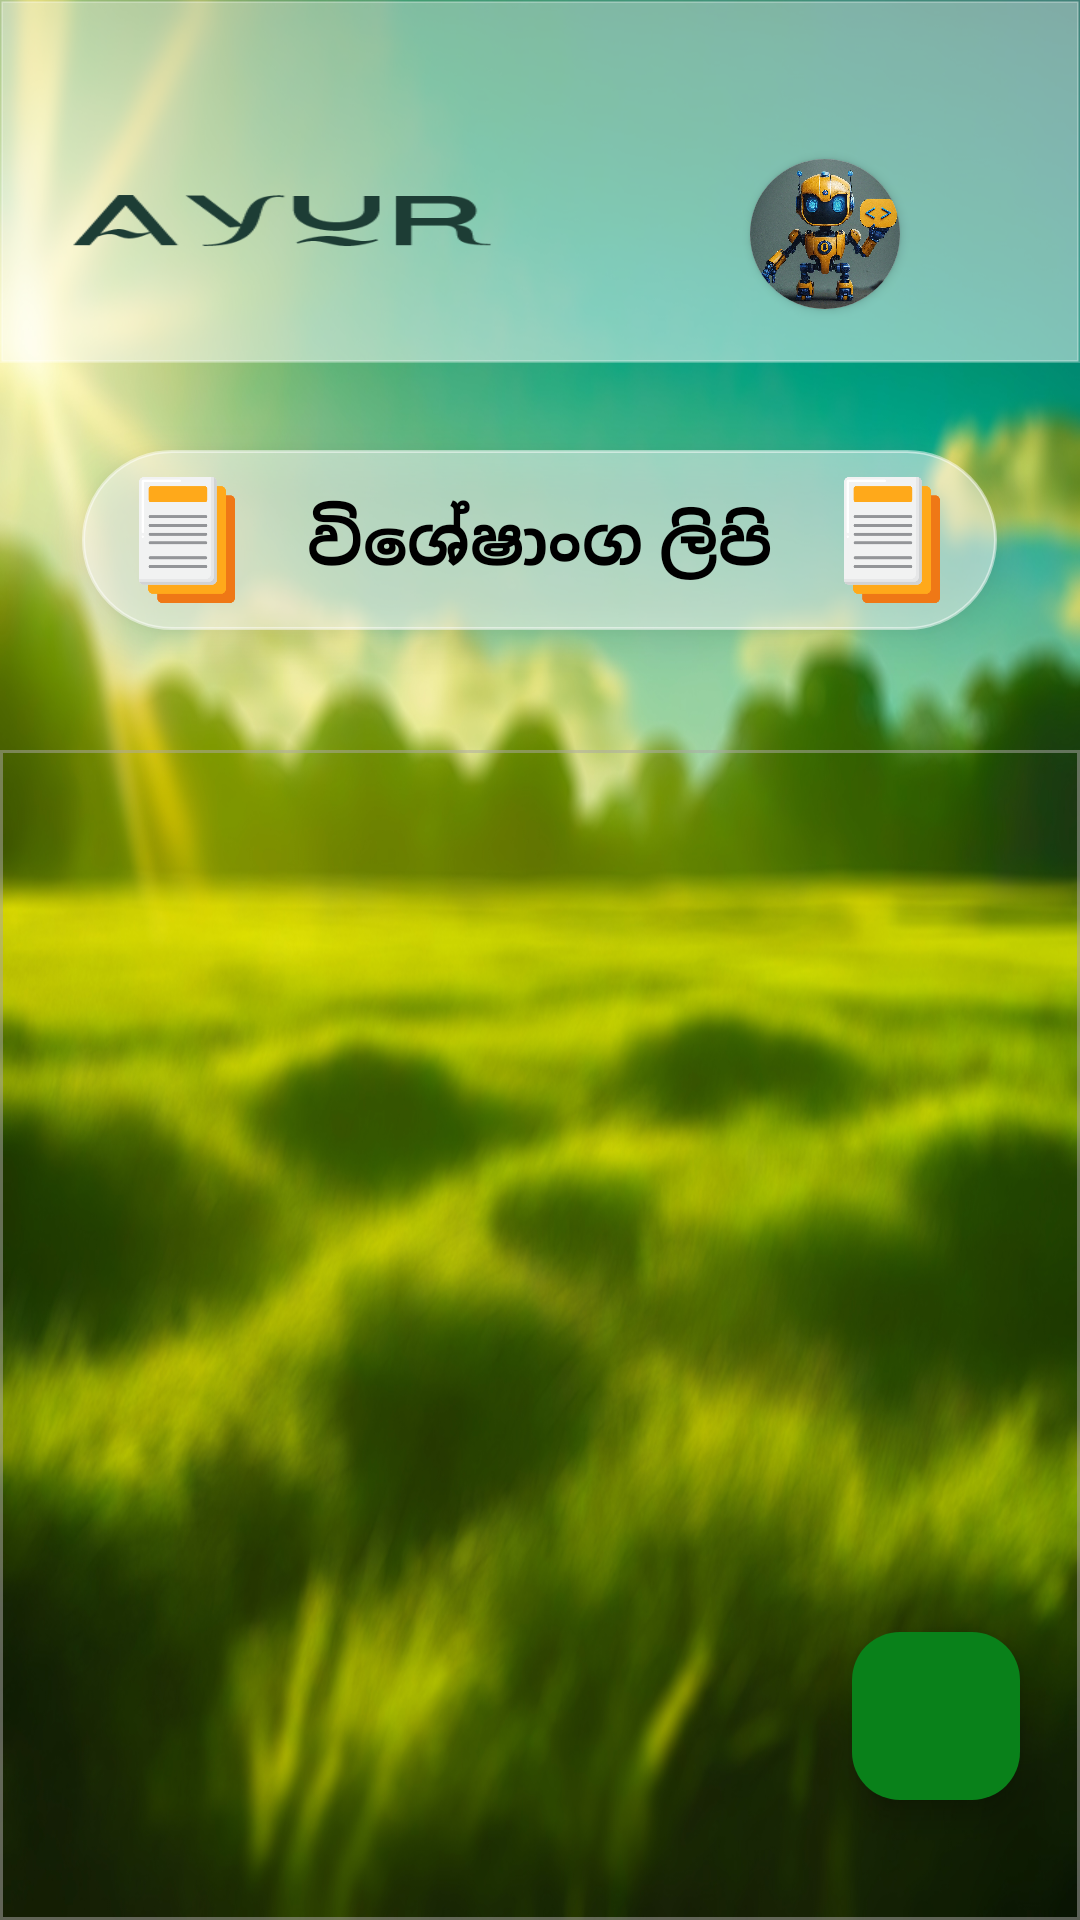

Screen size 1080*1920. Icon name, then its center in pixels as [x,y]:
articlelv: [178,534], [892,540]
